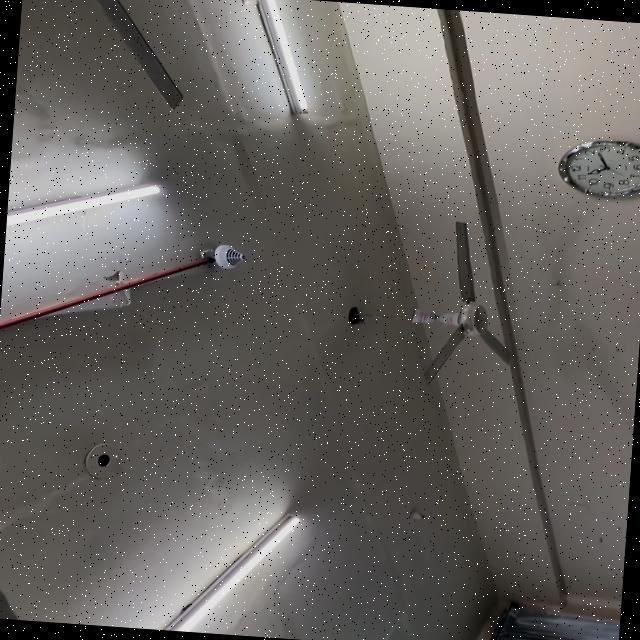Light: (162, 514, 299, 632), (242, 0, 308, 113), (6, 183, 161, 225)
